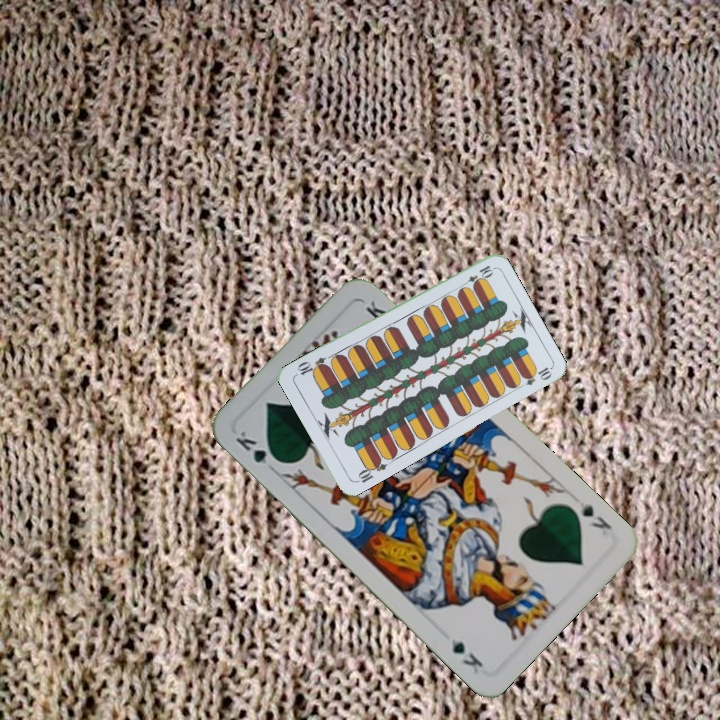E10: (352, 454, 389, 486), (458, 261, 495, 290)
GK: (232, 427, 283, 468), (574, 498, 614, 533)
